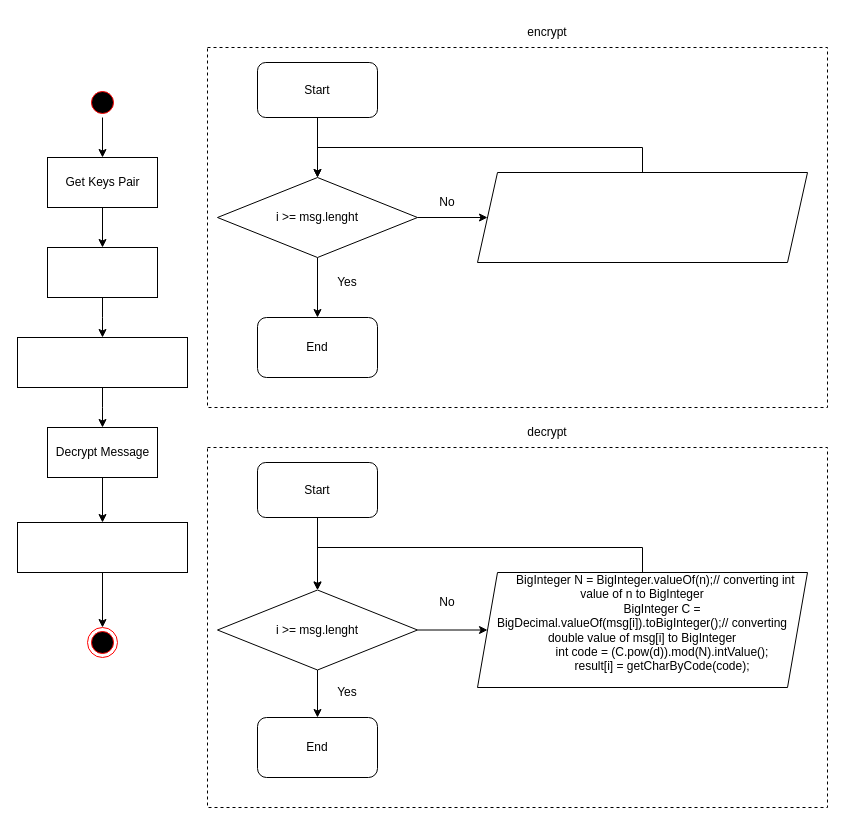
Image size: 845x825. Some labels were removed from this diagram. Here are the shapes that lost their labels. From the top down, the centre of each, then its label:
At (642,217): "result[i] = ((Math.pow(getCodeByChar(msg[i]), e)) % n);".
At (102,272): "Encrypt Message".
At (102,362): "Print encrypted Message".
At (102,547): "Print decrypted Message".
